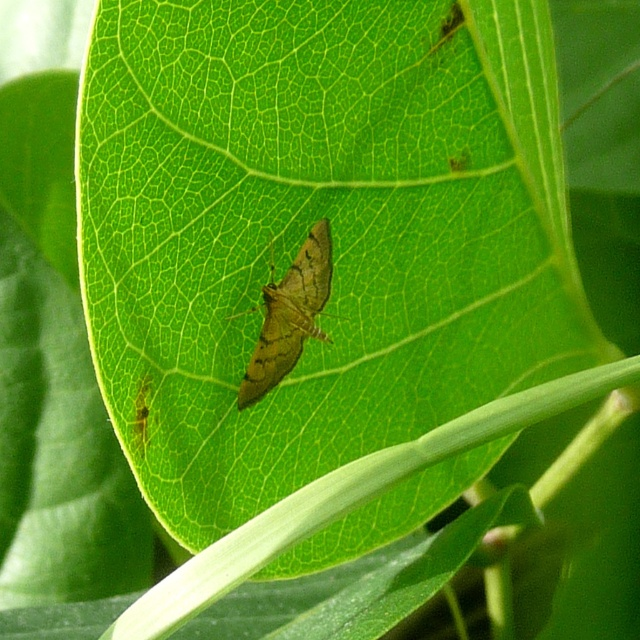Moths and butterflies: (225, 215, 354, 413)
